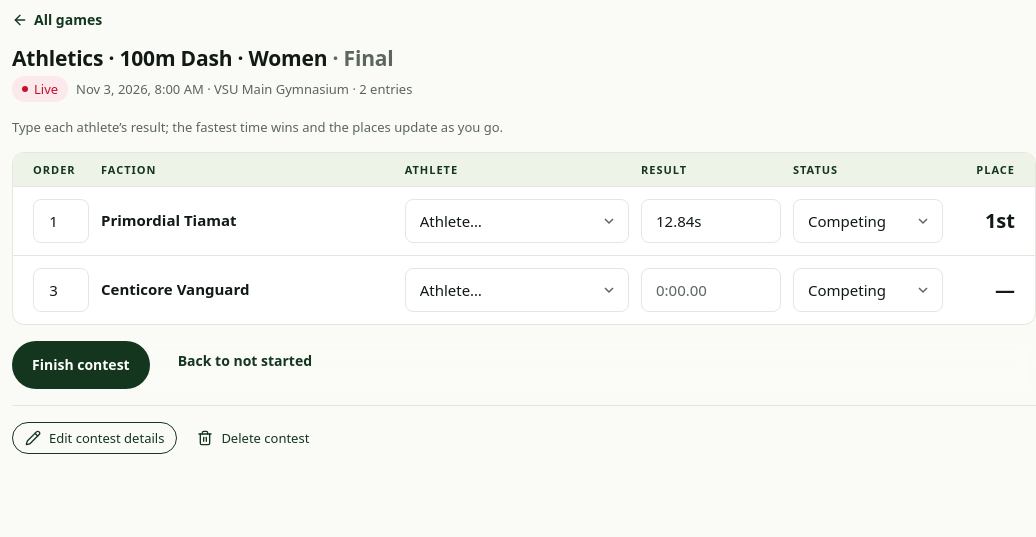
contest scorekeeper › won’t finish while a result is missing
Click the button "Finish contest": {"x": 81, "y": 365} [12,341,150,389]
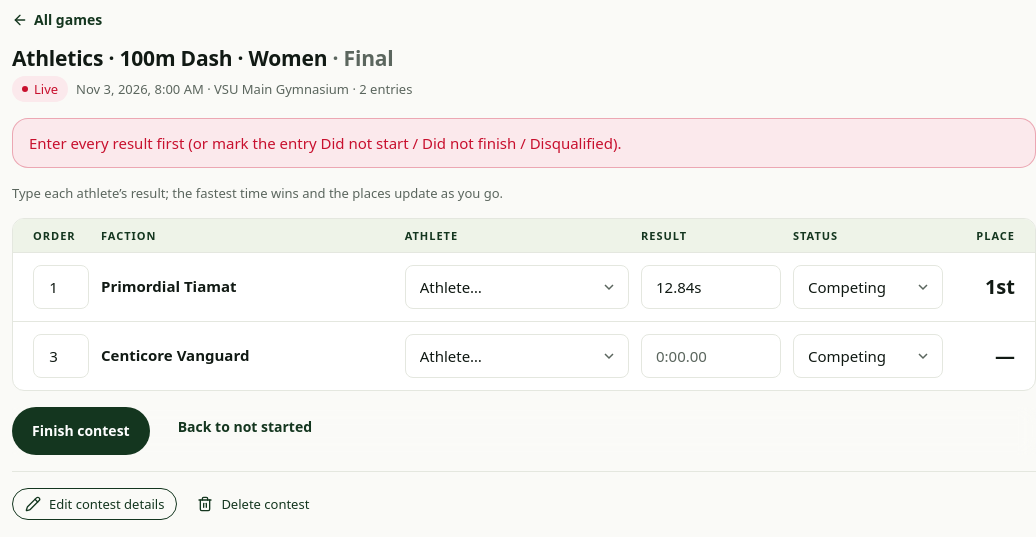
expect the message shows "Enter every result first": met, box [29,133,622,153]
